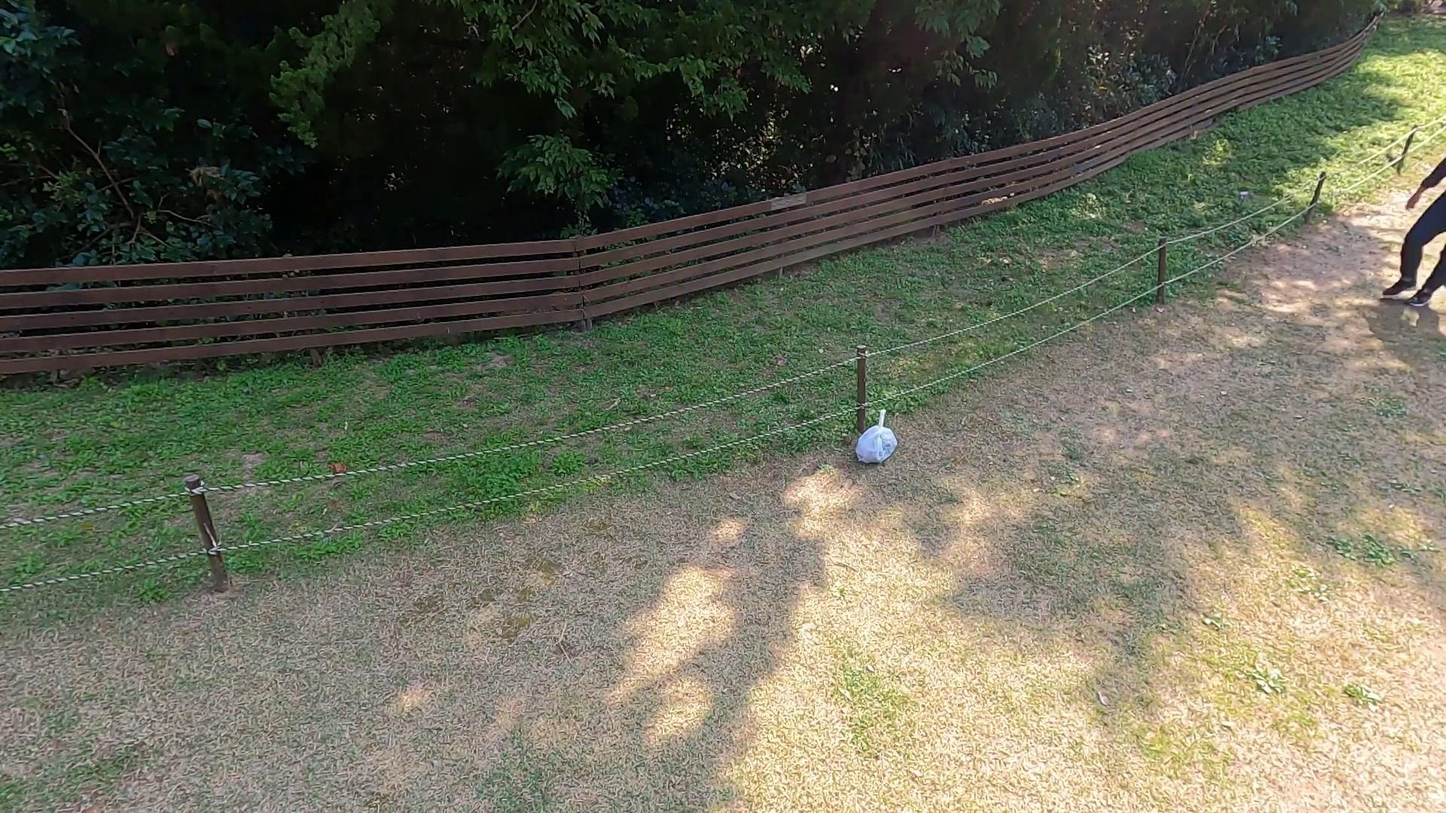person: (1379, 144, 1446, 332)
trash: (851, 411, 902, 465)
